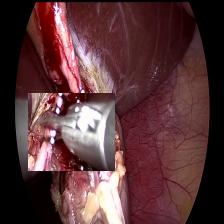Scissors: (27, 92, 114, 170)
